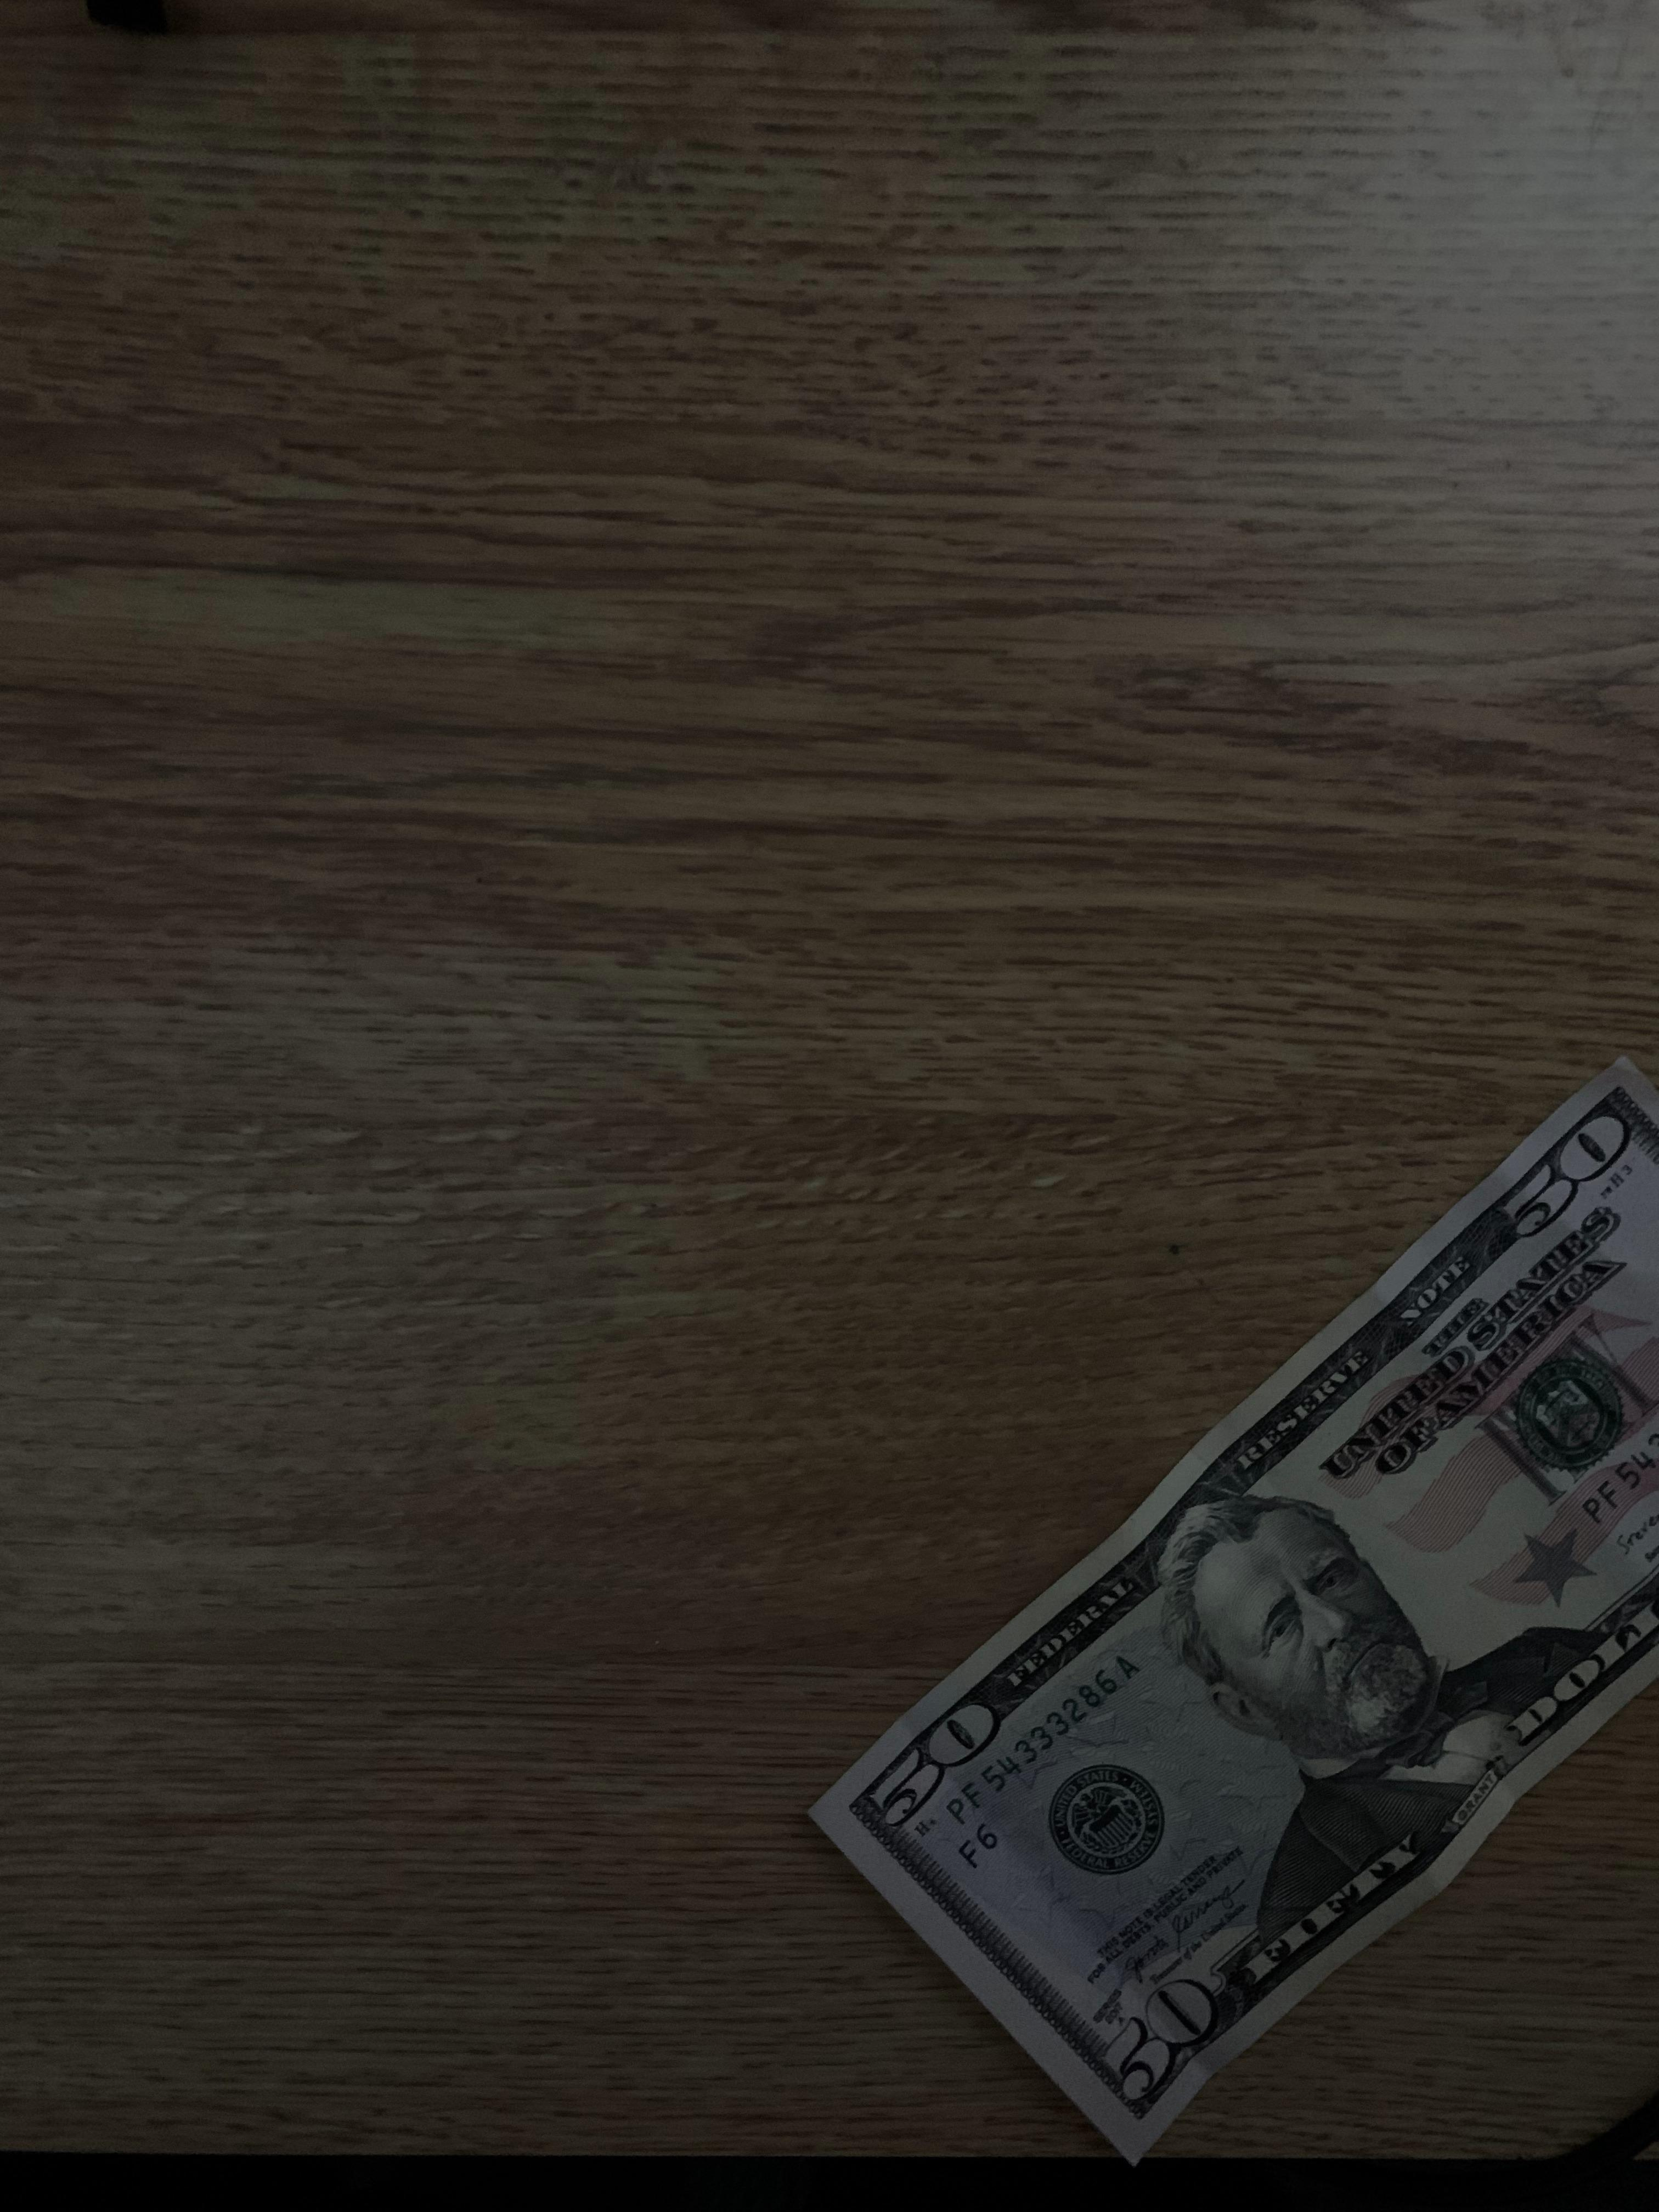FiftyBill: (798, 1064, 1657, 2163)
